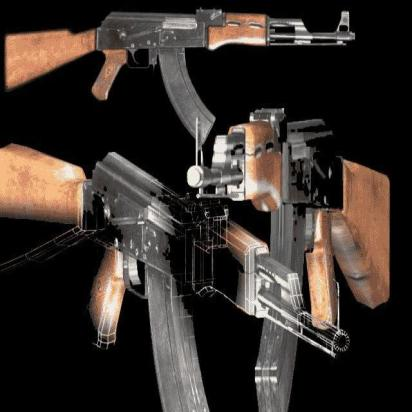Gun: (0, 137, 351, 412), (165, 105, 395, 330), (0, 4, 364, 144)
